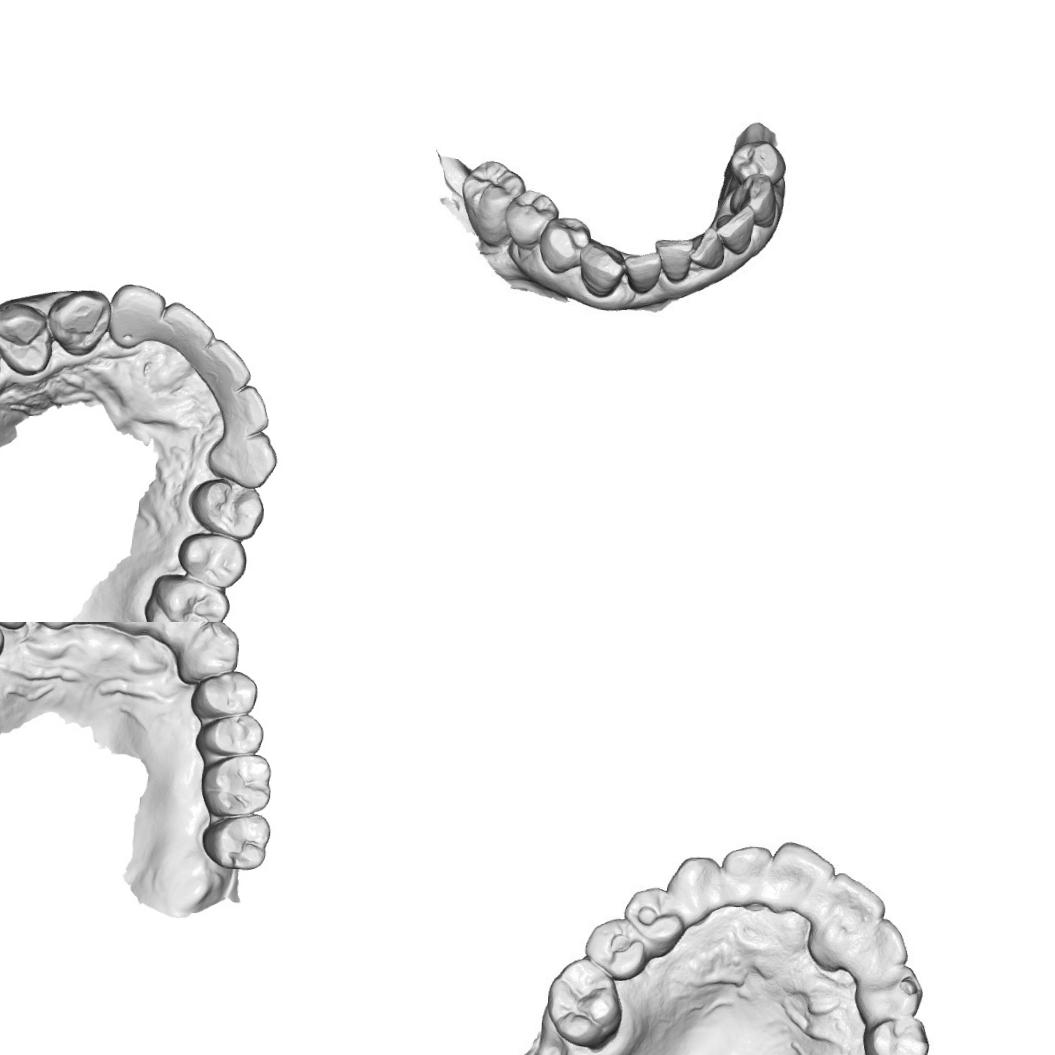canine: (43, 284, 112, 359), (203, 428, 281, 491), (174, 622, 241, 687), (868, 962, 925, 1023), (738, 177, 788, 237), (672, 852, 719, 914), (576, 240, 620, 290)
incisor: (768, 843, 832, 920), (102, 279, 168, 353), (187, 334, 254, 396), (713, 842, 769, 912), (821, 872, 884, 934), (158, 299, 218, 362), (208, 382, 272, 436), (844, 921, 906, 976), (690, 227, 728, 274), (722, 210, 761, 255), (157, 622, 212, 651), (656, 238, 692, 276), (628, 257, 662, 290)
molar: (548, 960, 622, 1042), (198, 751, 272, 820), (458, 158, 522, 232), (140, 570, 229, 622), (199, 810, 272, 871)
premolar: (182, 474, 266, 542), (170, 528, 250, 592), (0, 297, 56, 379), (188, 668, 260, 724), (627, 890, 683, 955), (192, 710, 264, 759), (586, 918, 642, 973), (723, 138, 782, 188), (536, 216, 586, 268), (504, 186, 550, 239), (869, 1018, 927, 1055)
